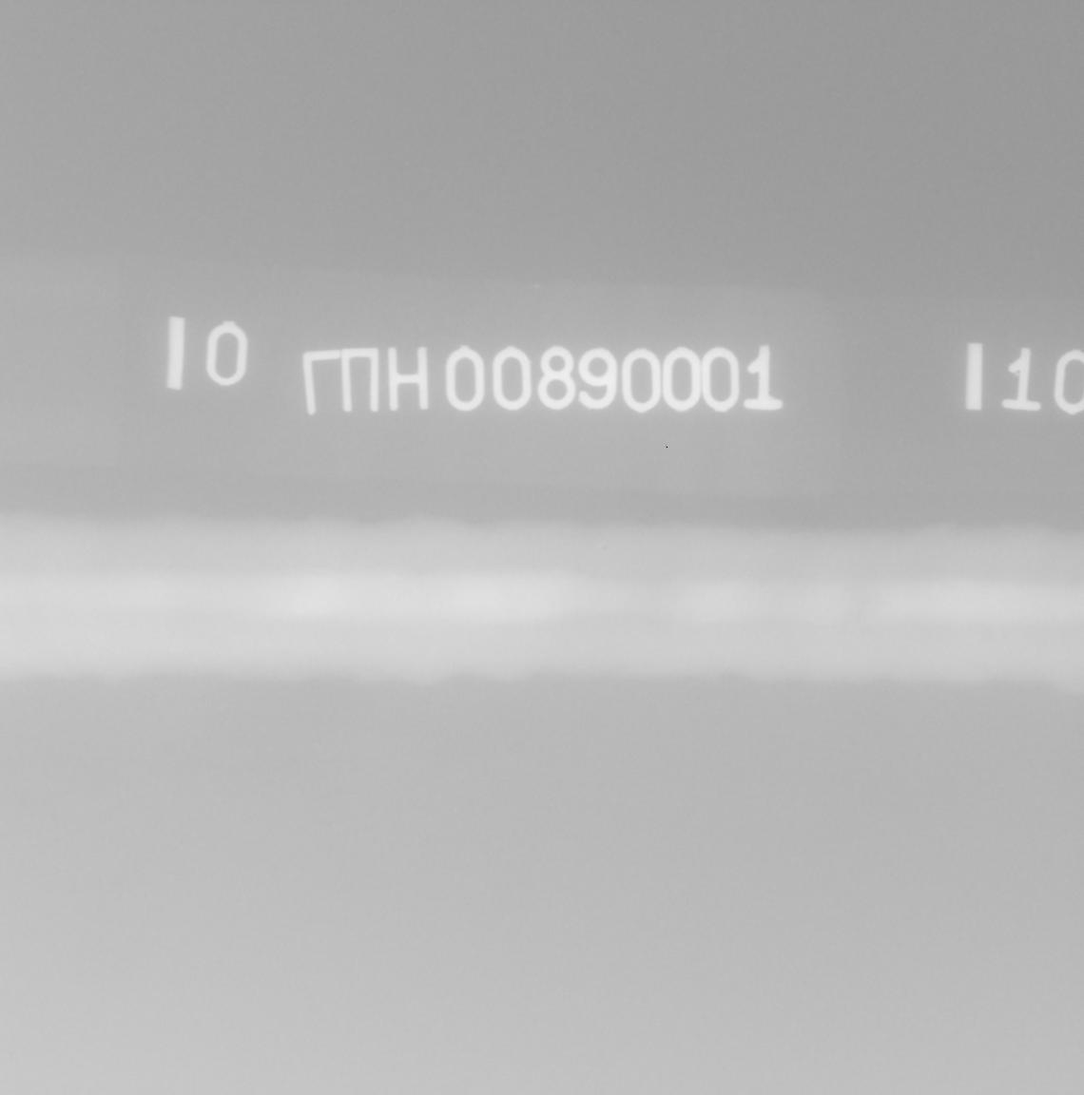Pore/Porosity: (602, 546, 610, 551)
